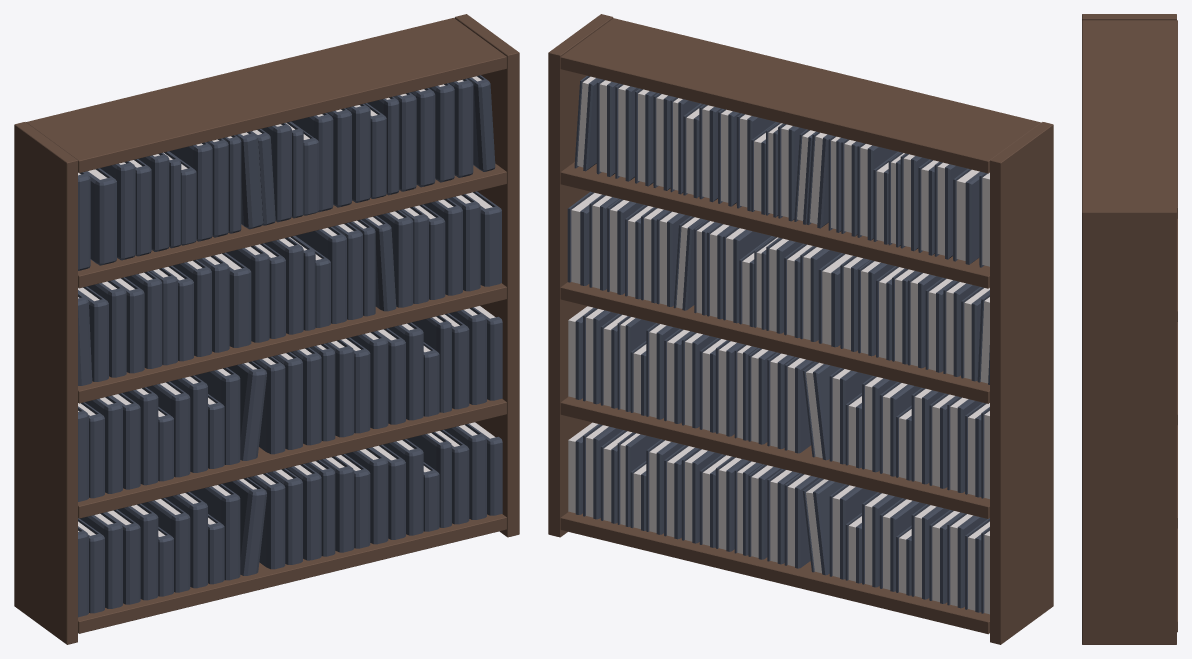
File: bookshelf.fbx
3 renders of one model, left to right at view 1: azimuth 30°, elevation 25°; view 2: azimuth 150°, elevation 25°; view 3: azimuth 270°, elevation 25°, orthographic. The views are drawn at different scales.
Parts seen in each view (by area): view 1: Bookshelf, Book.001, Book.085, Book.060, Book.084, Book.061, Book.086, Book.059, Book.042, Book.047, Book.076, Book.050 (+89 smaller); view 2: Bookshelf, Book.001, Book.085, Book.060, Book.061, Book.084, Book.086, Book.059, Book.042, Book.050, Book.048, Book.035 (+89 smaller); view 3: Bookshelf.
Part boxes in pixels (x1,y1,x2,y2): Bookshelf: [14, 14, 519, 644]; Book.001: [84, 168, 116, 265]; Book.085: [222, 477, 266, 575]; Book.060: [227, 361, 266, 460]; Book.084: [190, 484, 240, 580]; Book.061: [253, 356, 285, 454]; Book.086: [248, 473, 285, 569]; Book.059: [195, 367, 240, 464]; Book.042: [295, 227, 346, 323]; Book.047: [226, 245, 269, 342]; Book.076: [141, 498, 190, 592]; Book.050: [377, 210, 413, 307]; Bookshelf: [548, 14, 1053, 644]; Book.001: [953, 168, 983, 264]; Book.085: [802, 478, 844, 575]; Book.060: [802, 361, 839, 460]; Book.061: [784, 357, 814, 453]; Book.084: [829, 484, 877, 579]; Book.086: [784, 473, 819, 568]; Book.059: [829, 368, 872, 464]; Book.042: [723, 227, 770, 323]; Book.050: [656, 210, 690, 306]; Book.048: [818, 253, 852, 347]; Book.035: [567, 191, 601, 285]; Bookshelf: [1082, 14, 1177, 644].
Size of the model in its own units: 317 by 323 by 64.79.
